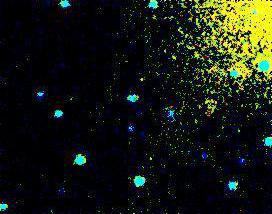star: (157, 42, 187, 72)
